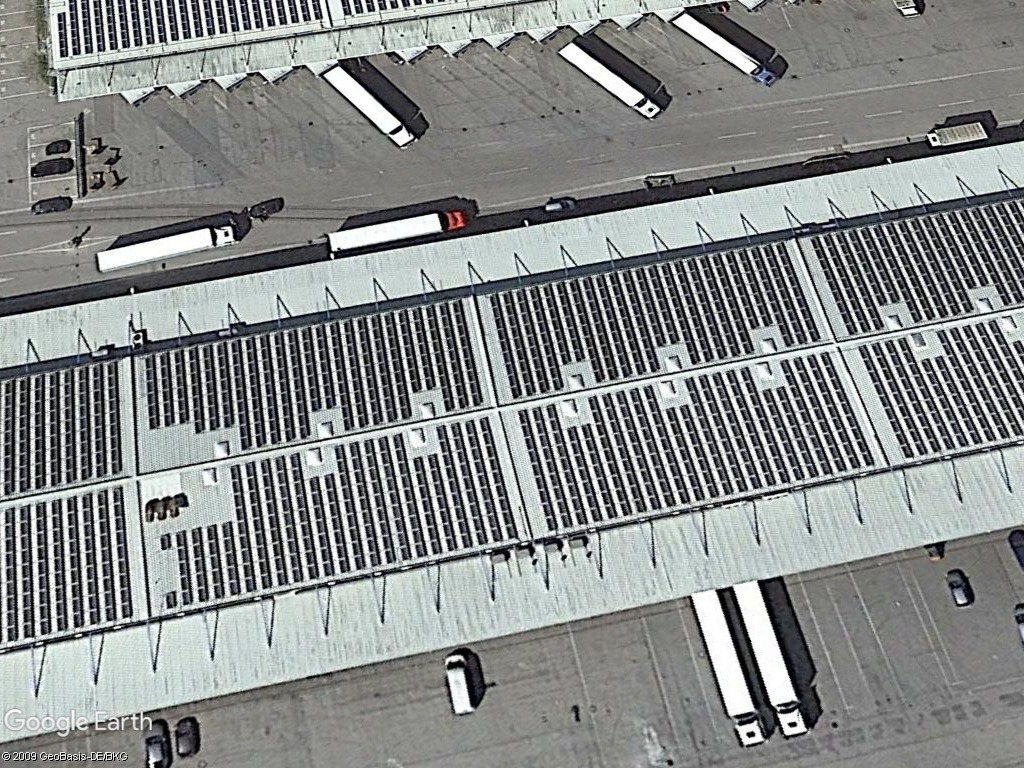car: (940, 566, 977, 612)
longvehicle: (681, 582, 768, 751), (729, 578, 814, 741), (315, 61, 424, 154), (666, 9, 783, 90), (556, 38, 665, 124), (89, 223, 241, 278), (318, 207, 473, 259)
truck: (921, 119, 997, 154)
van: (440, 650, 480, 721)
